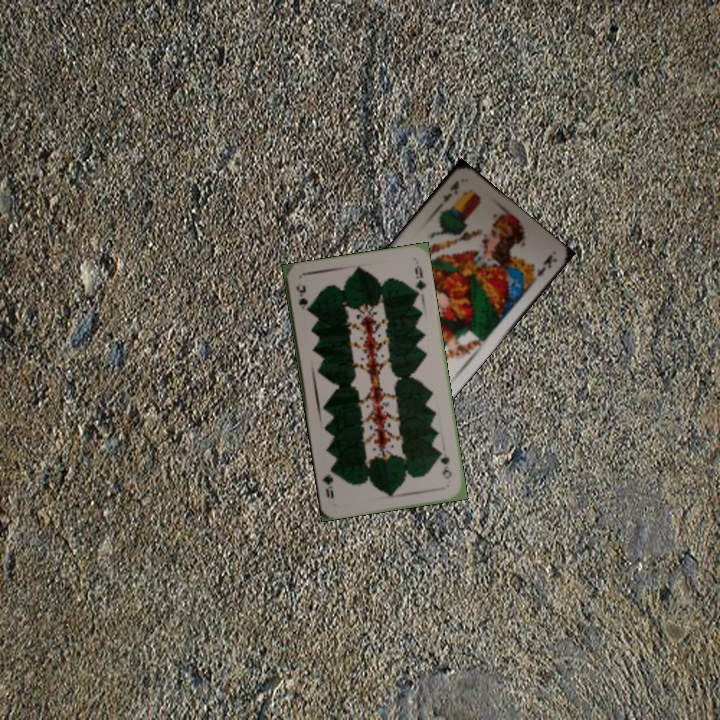EK: (439, 177, 462, 205)
G9: (292, 281, 312, 314), (436, 446, 454, 481)
